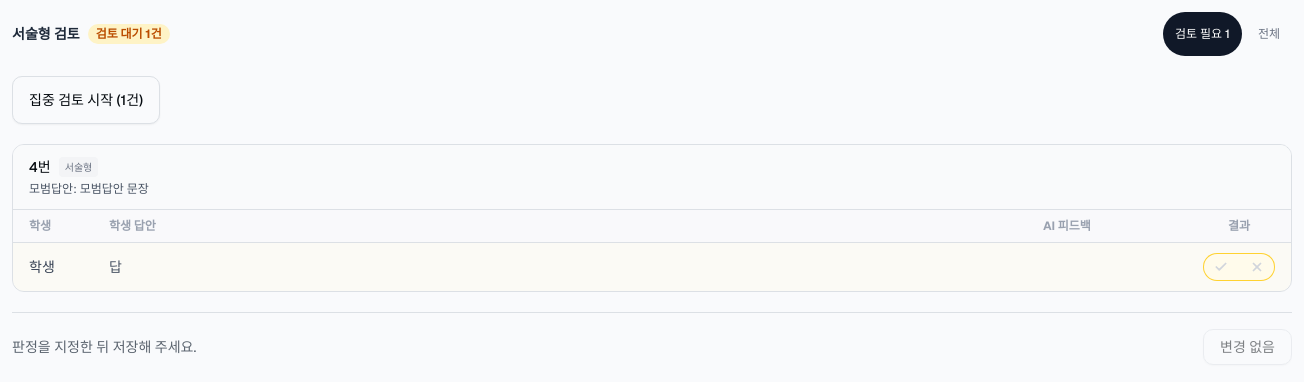
Test: keeps review locked until the refreshed grade query finishes
Click the button named "정답": {"x": 1221, "y": 267} [1203, 253, 1239, 281]
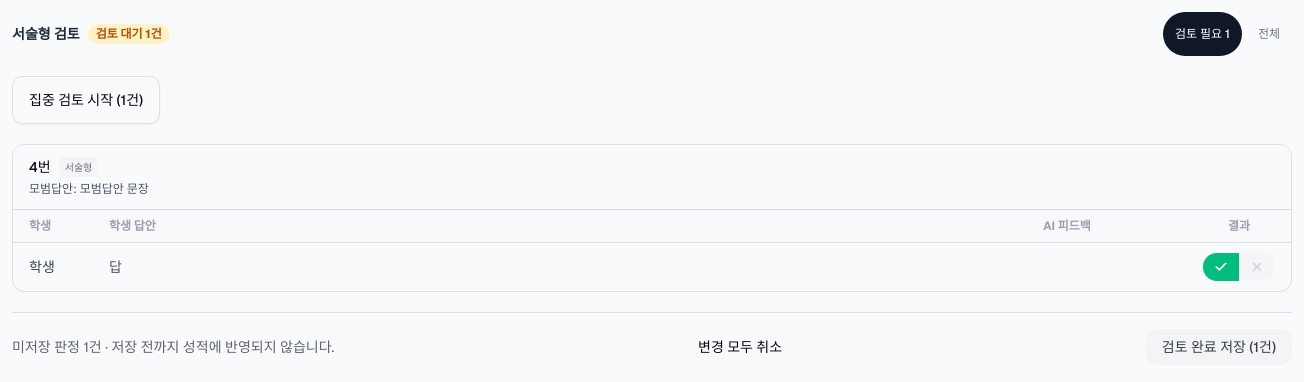
Click the button "검토 완료 저장 (1건)": {"x": 1219, "y": 347} [1146, 329, 1292, 365]
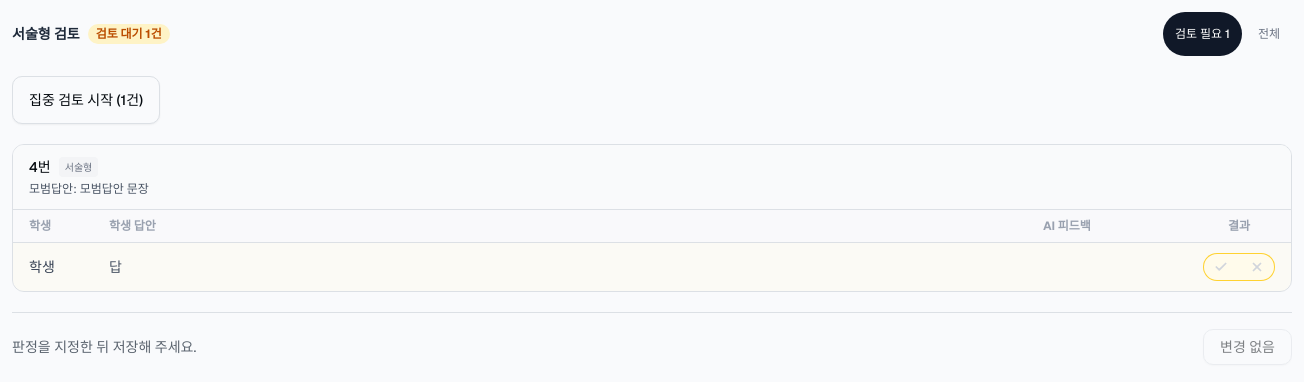
Check: the button named "저장 중..." is disabled, box [1203, 329, 1292, 365]
